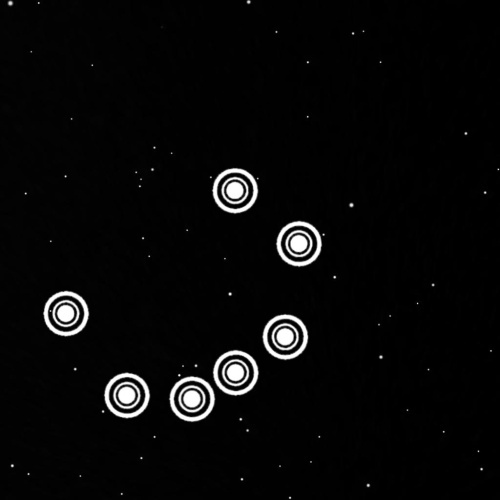corona_borealis: (36, 152, 327, 429)
